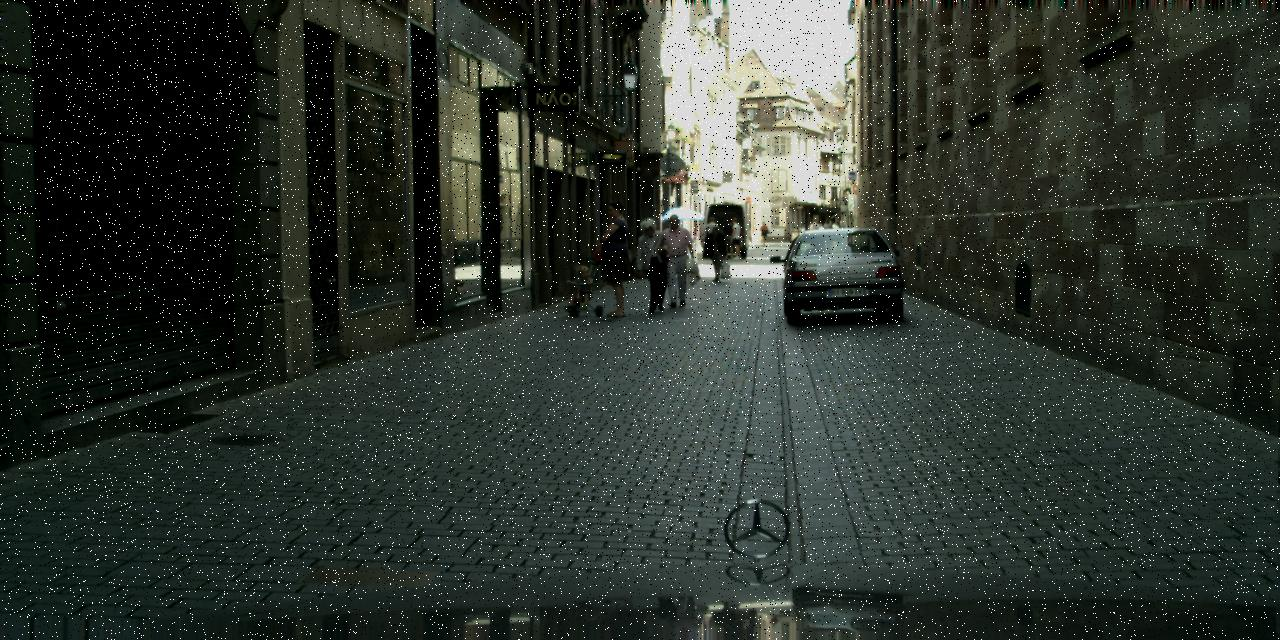ped: (591, 202, 638, 317), (633, 218, 671, 311), (657, 214, 694, 306), (704, 226, 726, 281), (703, 216, 720, 258), (728, 217, 744, 259), (721, 222, 736, 258), (758, 220, 768, 246), (816, 222, 824, 245)
